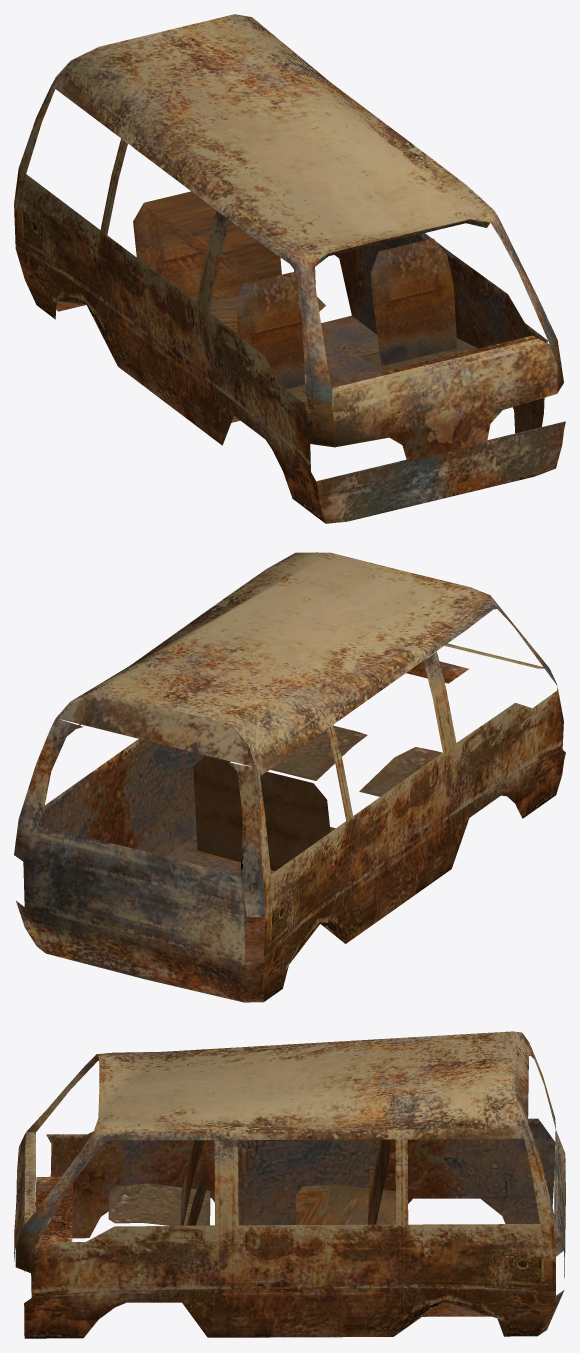
File: Prop_Wj034_lod2.glb
The picture shows the model from 3 angles, top to bottom: view 1: azimuth 30°, elevation 25°; view 2: azimuth 150°, elevation 25°; view 3: azimuth 270°, elevation 25°; orthographic projection. The views are drawn at different scales.
Visible parts, largest first — view 1: xiutz_wj034_lod1; view 2: xiutz_wj034_lod1; view 3: xiutz_wj034_lod1.
Boxes of the visible parts, x1,y1,x2,y2 form: xiutz_wj034_lod1: (14, 14, 565, 523); xiutz_wj034_lod1: (14, 552, 565, 1002); xiutz_wj034_lod1: (14, 1031, 565, 1338).
Bounding box in the file's own units: 2.24 × 2.21 × 4.76.
Materials: 1 (1 with a texture image).
